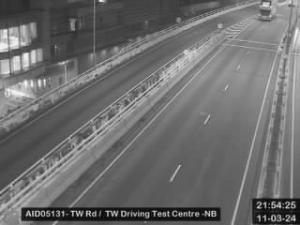bus: (260, 1, 276, 22)
